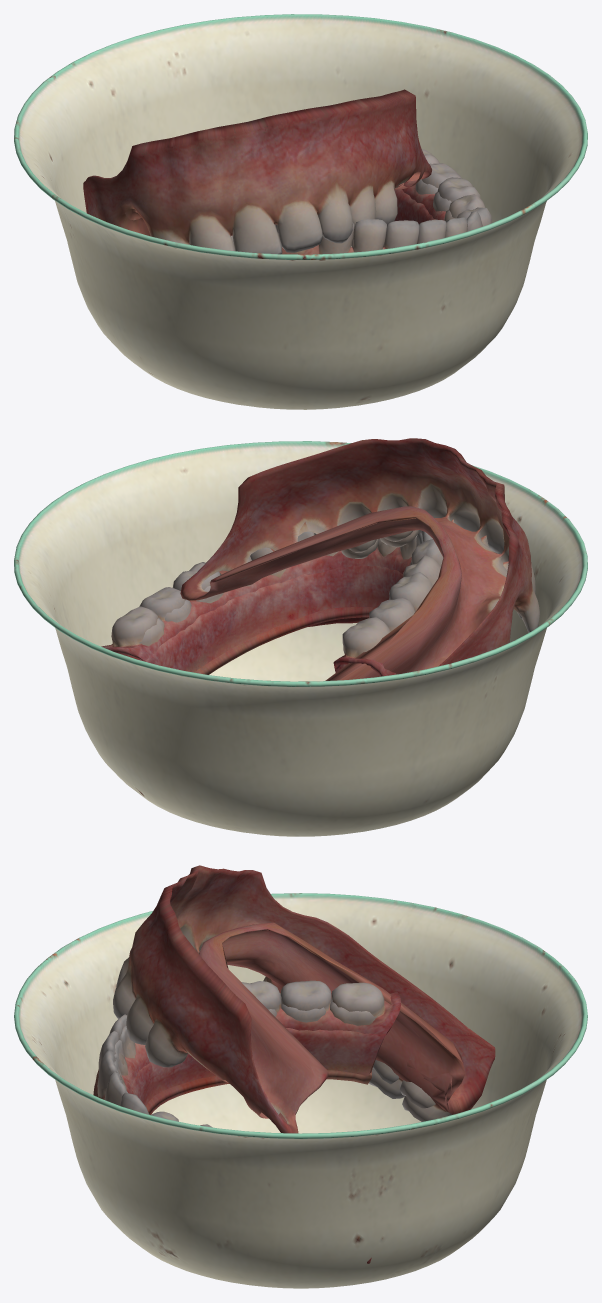
The model's file is teeth.glb.
The picture shows the model from 3 angles, top to bottom: view 1: azimuth 30°, elevation 25°; view 2: azimuth 150°, elevation 25°; view 3: azimuth 270°, elevation 25°; orthographic projection.
Visible parts, largest first — view 1: defaultMaterial, Upper_jaw_teeth, Lower_jaw_teeth; view 2: defaultMaterial, Upper_jaw_teeth, Lower_jaw_teeth; view 3: defaultMaterial, Upper_jaw_teeth, Lower_jaw_teeth.
Boxes of the visible parts, x1,y1,x2,y2 form: defaultMaterial: (14, 14, 587, 409); Upper_jaw_teeth: (83, 89, 431, 254); Lower_jaw_teeth: (281, 149, 492, 254); defaultMaterial: (14, 441, 587, 836); Upper_jaw_teeth: (180, 438, 539, 680); Lower_jaw_teeth: (101, 530, 443, 676); defaultMaterial: (14, 893, 587, 1288); Upper_jaw_teeth: (113, 865, 495, 1133); Lower_jaw_teeth: (93, 980, 400, 1263).
Size of the model in its own units: 0.1435 by 0.0836 by 0.1435.
Materials: 3 (3 with a texture image).
